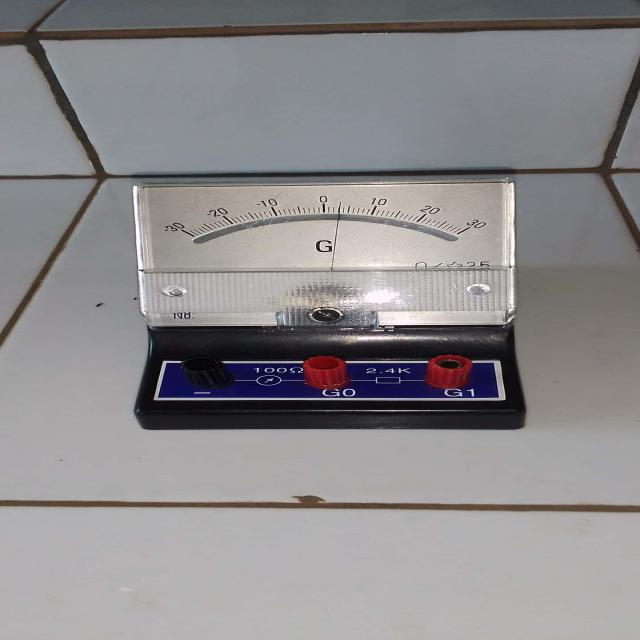Galvanometer: (114, 164, 548, 444)
